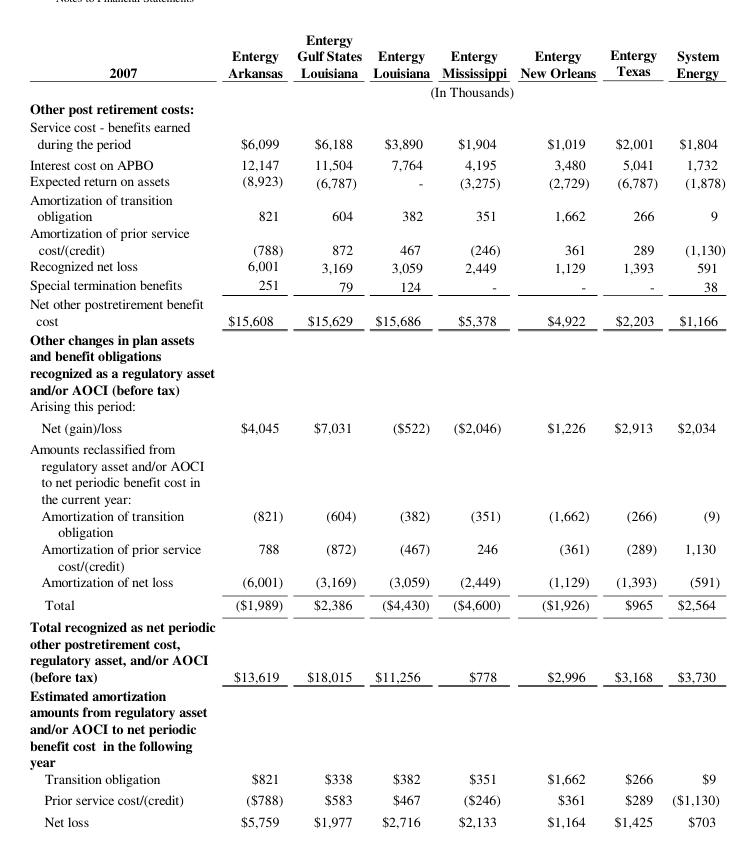table: (28, 29, 724, 829)
table column: (28, 29, 221, 829), (512, 29, 602, 829), (289, 29, 366, 829), (435, 29, 512, 829), (366, 29, 435, 829), (221, 29, 289, 829), (602, 29, 664, 829), (664, 29, 724, 829)
table column header: (28, 29, 724, 99)
table projected row header: (28, 685, 724, 769), (28, 437, 724, 506), (28, 329, 724, 396), (28, 396, 724, 415), (28, 99, 724, 116)
table row: (28, 685, 724, 769), (28, 614, 724, 685), (28, 437, 724, 506), (28, 329, 724, 396), (28, 29, 724, 81), (28, 116, 724, 152), (28, 294, 724, 329), (28, 190, 724, 223), (28, 223, 724, 256), (28, 506, 724, 539), (28, 539, 724, 572), (28, 415, 724, 437), (28, 592, 724, 614), (28, 787, 724, 809), (28, 572, 724, 592), (28, 809, 724, 829), (28, 152, 724, 171), (28, 171, 724, 190), (28, 256, 724, 275), (28, 275, 724, 294), (28, 396, 724, 415), (28, 81, 724, 99), (28, 769, 724, 787), (28, 99, 724, 116)
table spanning cell: (28, 29, 221, 99), (221, 81, 724, 99)
